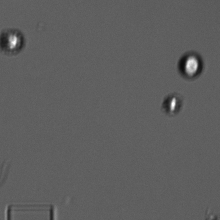Living Cell: (175, 50, 206, 81), (1, 28, 26, 56), (161, 93, 184, 116)
